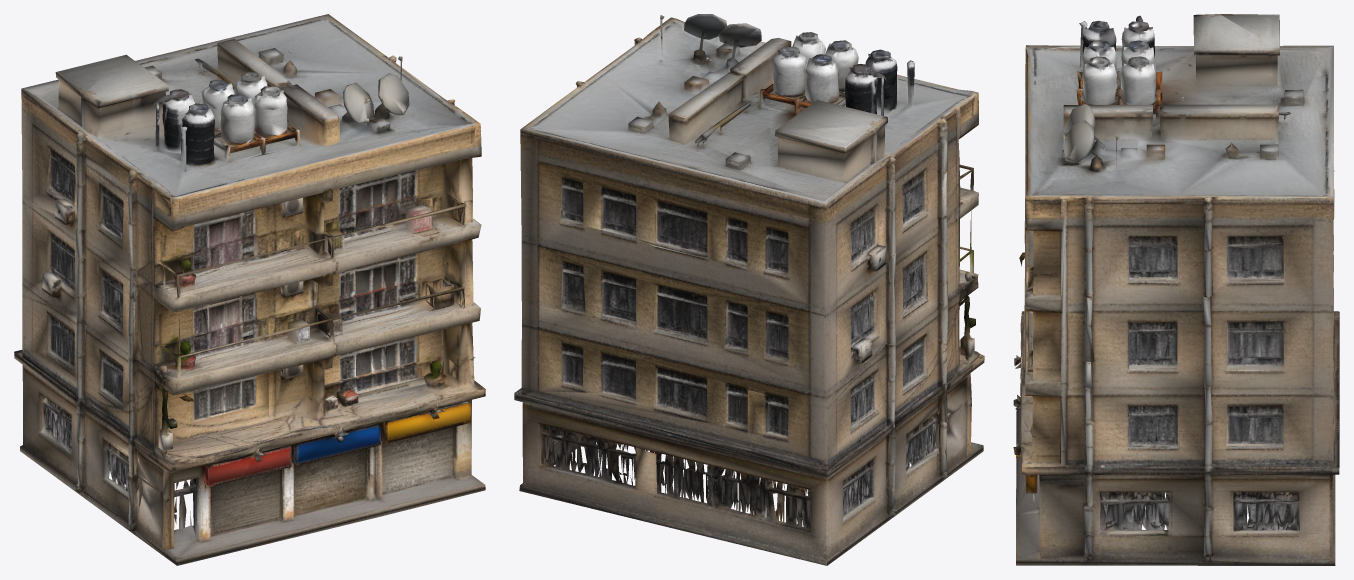
File: bld_shops.glb
The picture shows the model from 3 angles, left to right: view 1: azimuth 30°, elevation 25°; view 2: azimuth 150°, elevation 25°; view 3: azimuth 270°, elevation 25°; orthographic projection.
Parts seen in each view (by area): view 1: geometry_0; view 2: geometry_0; view 3: geometry_0.
Part boxes in pixels (<box>): geometry_0: <box>14,14,485,565</box>; geometry_0: <box>514,14,984,565</box>; geometry_0: <box>1013,14,1339,565</box>.
Bounding box in the file's own units: 0.6649 × 0.8174 × 0.5755.
Materials: 1 (1 with a texture image).
